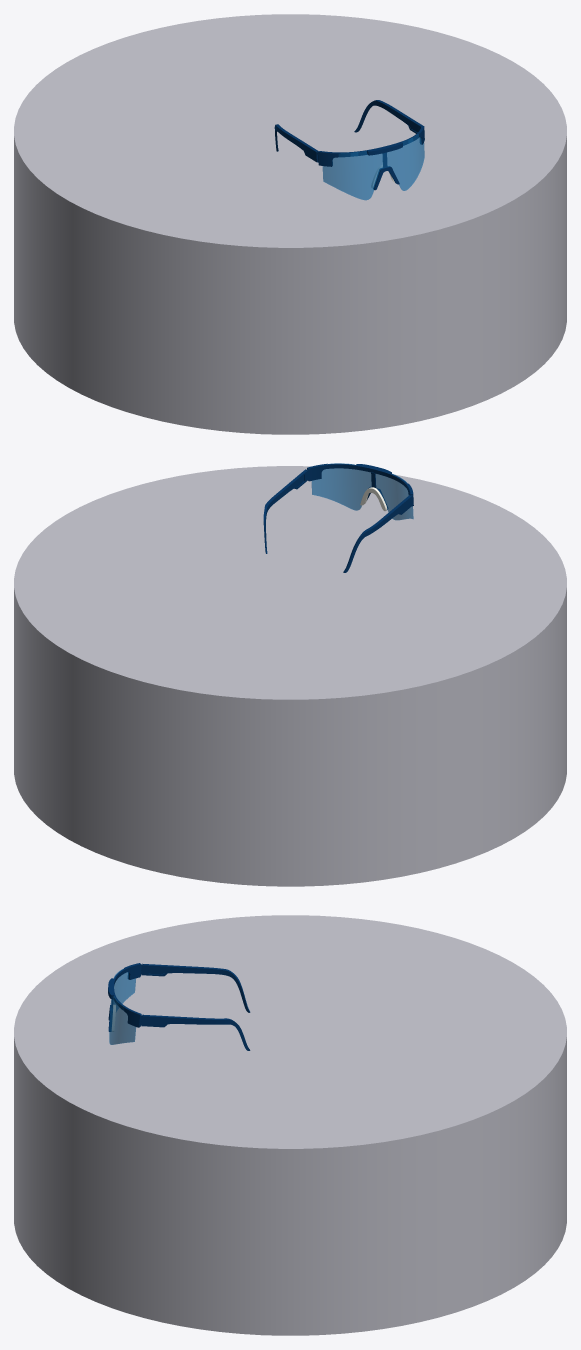
File: occhiale-3dm.glb
3 renders of one model, top to bottom at view 1: azimuth 30°, elevation 25°; view 2: azimuth 150°, elevation 25°; view 3: azimuth 270°, elevation 25°, orthographic.
Parts seen in each view (by area): view 1: extrusion, polysurface (×3); view 2: extrusion, polysurface (×4); view 3: extrusion, polysurface (×4).
Boxes of the visible parts, x1,y1,x2,y2 form: extrusion: [14, 14, 566, 434]; polysurface (×3): [318, 100, 424, 200]; extrusion: [14, 466, 566, 886]; polysurface (×4): [263, 463, 413, 572]; extrusion: [14, 915, 566, 1335]; polysurface (×4): [108, 963, 250, 1050].
Bounding box in the file's own units: 1287 × 604 × 1287.
